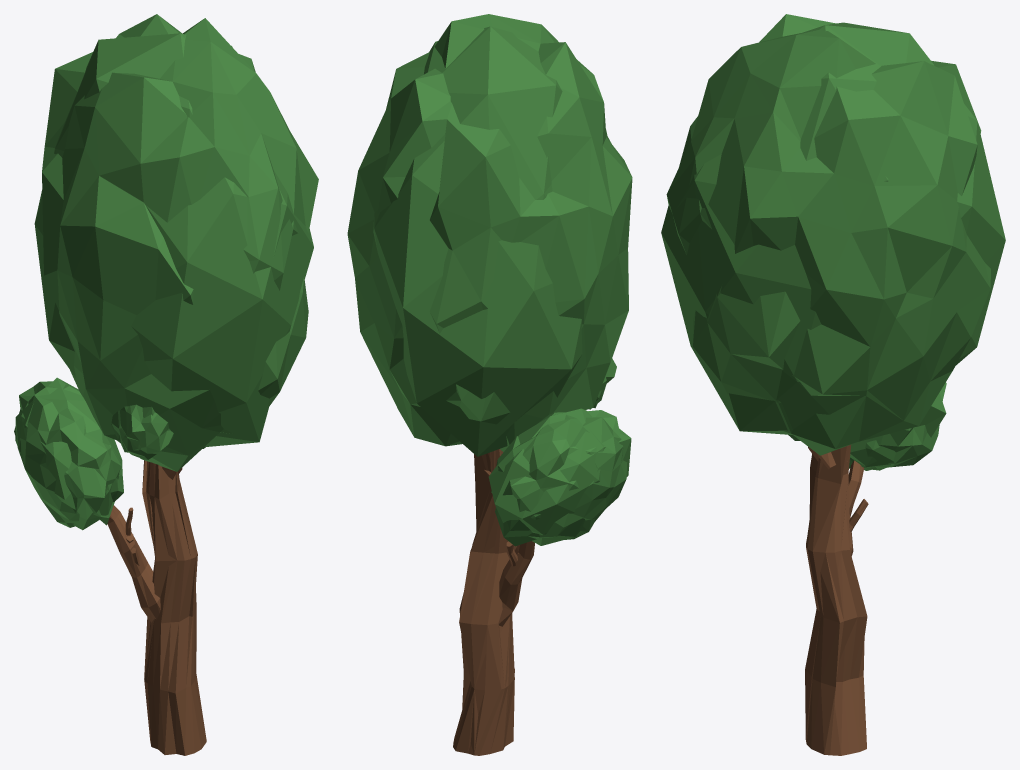
File: TallTree1.fbx
The picture shows the model from 3 angles, left to right: view 1: azimuth 30°, elevation 25°; view 2: azimuth 150°, elevation 25°; view 3: azimuth 270°, elevation 25°; orthographic projection.
Visible parts, largest first — view 1: Newly_merged_leaves, Newly_merged_leaves_LOD, Newly_merged_branches, Newly_merged_branches_LOD; view 2: Newly_merged_leaves, Newly_merged_leaves_LOD, Newly_merged_branches, Newly_merged_branches_LOD; view 3: Newly_merged_leaves, Newly_merged_leaves_LOD, Newly_merged_branches, Newly_merged_branches_LOD.
Part boxes in pixels (left/top/right/bottom): Newly_merged_leaves: left=14, top=14, right=318, bottom=527; Newly_merged_leaves_LOD: left=15, top=33, right=313, bottom=530; Newly_merged_branches: left=107, top=460, right=206, bottom=755; Newly_merged_branches_LOD: left=110, top=461, right=196, bottom=680; Newly_merged_leaves: left=347, top=14, right=632, bottom=546; Newly_merged_leaves_LOD: left=373, top=26, right=631, bottom=545; Newly_merged_branches: left=453, top=449, right=534, bottom=755; Newly_merged_branches_LOD: left=470, top=449, right=517, bottom=754; Newly_merged_leaves: left=666, top=14, right=990, bottom=470; Newly_merged_leaves_LOD: left=661, top=22, right=1005, bottom=470; Newly_merged_branches: left=805, top=446, right=868, bottom=755; Newly_merged_branches_LOD: left=812, top=444, right=857, bottom=663.
Size of the model in its own units: 997 by 2752 by 1195.
